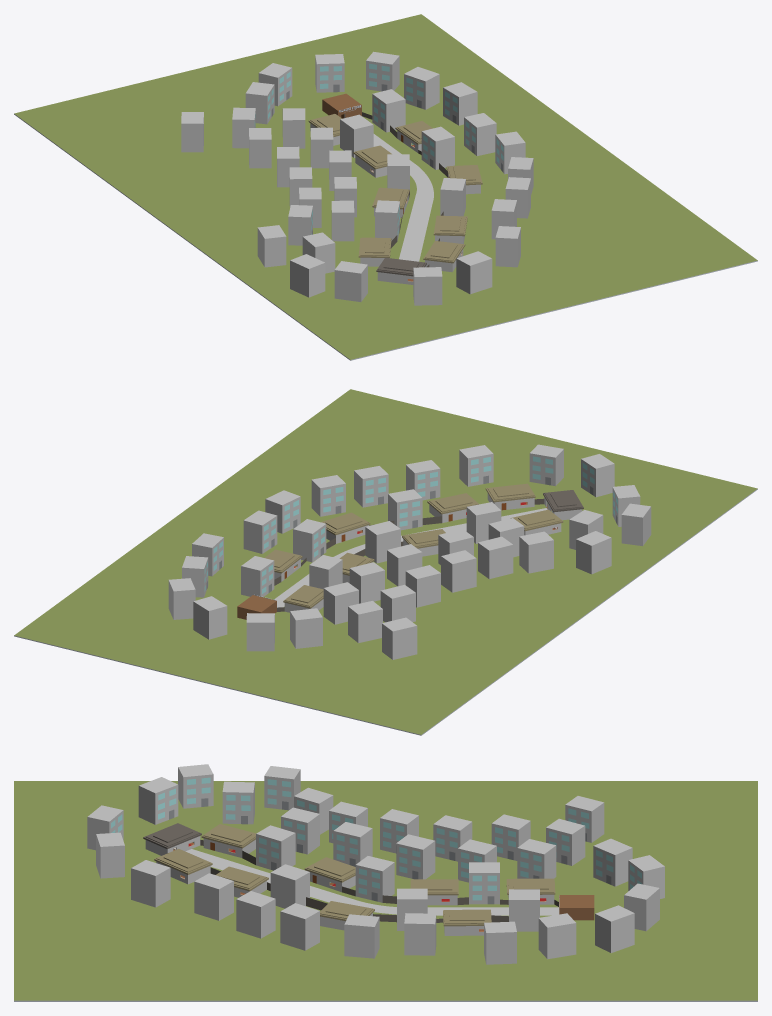
Rendered from Optometrist.fbx.
3 renders of one model, top to bottom at view 1: azimuth 30°, elevation 25°; view 2: azimuth 150°, elevation 25°; view 3: azimuth 270°, elevation 25°, orthographic. The views are drawn at different scales.
Parts seen in each view (by area): view 1: Model, building18, building36, building24, building32, building2, building25, building4, building22, building23, building31, building26 (+32 smaller); view 2: Model, building14, building15, building29, building35, building17, building18, building22, building26, building34, building19, building20 (+34 smaller); view 3: Model, building32, building17, building19, building20, building25, building16, building9, building24, building3, building5, building28 (+36 smaller).
Part boxes in pixels (left/top/right/bottom): Model: left=14, top=14, right=757, bottom=360; building18: left=456, top=251, right=492, bottom=294; building36: left=290, top=254, right=325, bottom=297; building24: left=404, top=67, right=439, bottom=109; building32: left=334, top=261, right=367, bottom=301; building2: left=421, top=126, right=454, bottom=169; building25: left=366, top=51, right=399, bottom=91; building4: left=372, top=89, right=405, bottom=132; building22: left=464, top=113, right=496, bottom=155; building23: left=443, top=82, right=477, bottom=125; building31: left=413, top=267, right=442, bottom=305; building26: left=315, top=54, right=344, bottom=92; Model: left=14, top=389, right=757, bottom=735; building14: left=441, top=550, right=476, bottom=592; building15: left=478, top=536, right=513, bottom=579; building29: left=382, top=617, right=417, bottom=659; building35: left=576, top=531, right=611, bottom=574; building17: left=459, top=445, right=493, bottom=486; building18: left=529, top=444, right=563, bottom=486; building22: left=243, top=510, right=277, bottom=553; building26: left=193, top=596, right=227, bottom=639; building34: left=519, top=531, right=553, bottom=573; building19: left=354, top=466, right=388, bottom=507; building20: left=311, top=475, right=345, bottom=516; Model: left=14, top=781, right=757, bottom=1001; building32: left=138, top=777, right=178, bottom=824; building17: left=131, top=860, right=170, bottom=907; building19: left=236, top=891, right=275, bottom=938; building20: left=280, top=903, right=319, bottom=950; building25: left=595, top=905, right=634, bottom=953; building16: left=194, top=873, right=233, bottom=920; building9: left=396, top=834, right=435, bottom=879; building24: left=538, top=913, right=576, bottom=959; building3: left=355, top=856, right=394, bottom=902; building5: left=256, top=825, right=295, bottom=870; building28: left=593, top=838, right=632, bottom=886.
Bounding box in the file's own units: 124 × 8.56 × 177.
